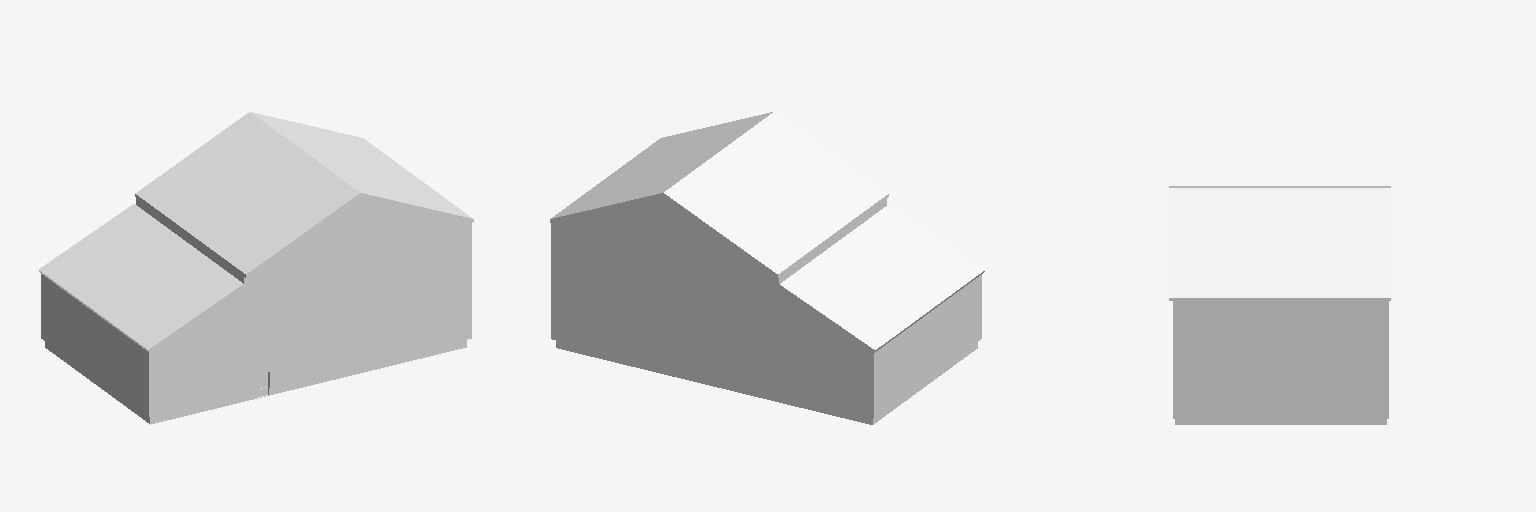
The model's file is industrial15.obj.
3 renders of one model, left to right at view 1: azimuth 30°, elevation 25°; view 2: azimuth 150°, elevation 25°; view 3: azimuth 270°, elevation 25°, orthographic.
Parts seen in each view (by area): view 1: industrial15; view 2: industrial15; view 3: industrial15.
Part boxes in pixels (left/top/right/bottom): industrial15: left=39, top=112, right=473, bottom=424; industrial15: left=550, top=112, right=984, bottom=424; industrial15: left=1169, top=186, right=1390, bottom=424.
Size of the model in its own units: 1270 by 685 by 750.